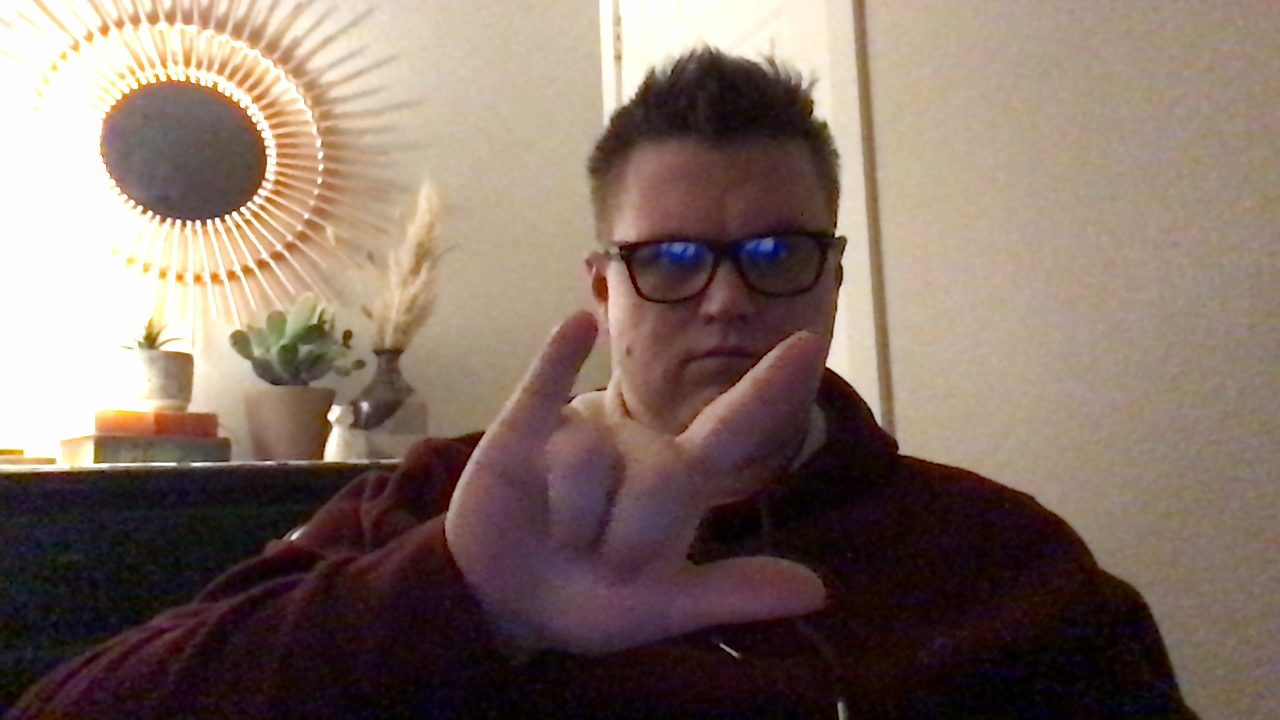iloveyou: (443, 305, 834, 645)
